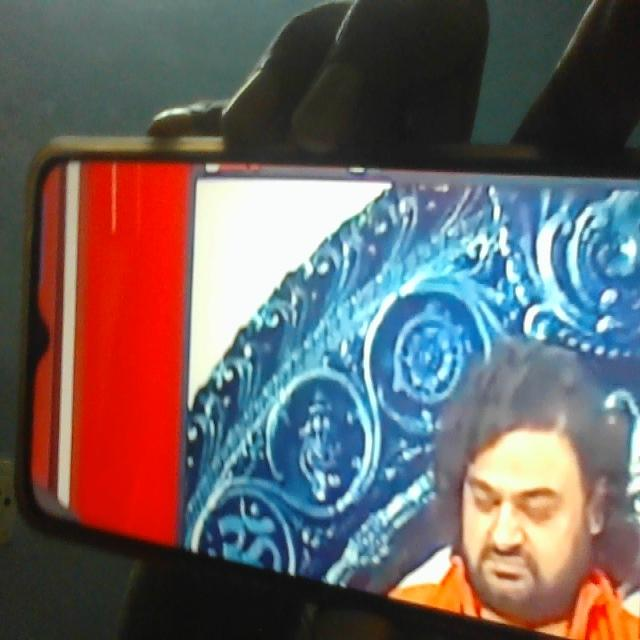fake: (457, 371, 591, 624)
